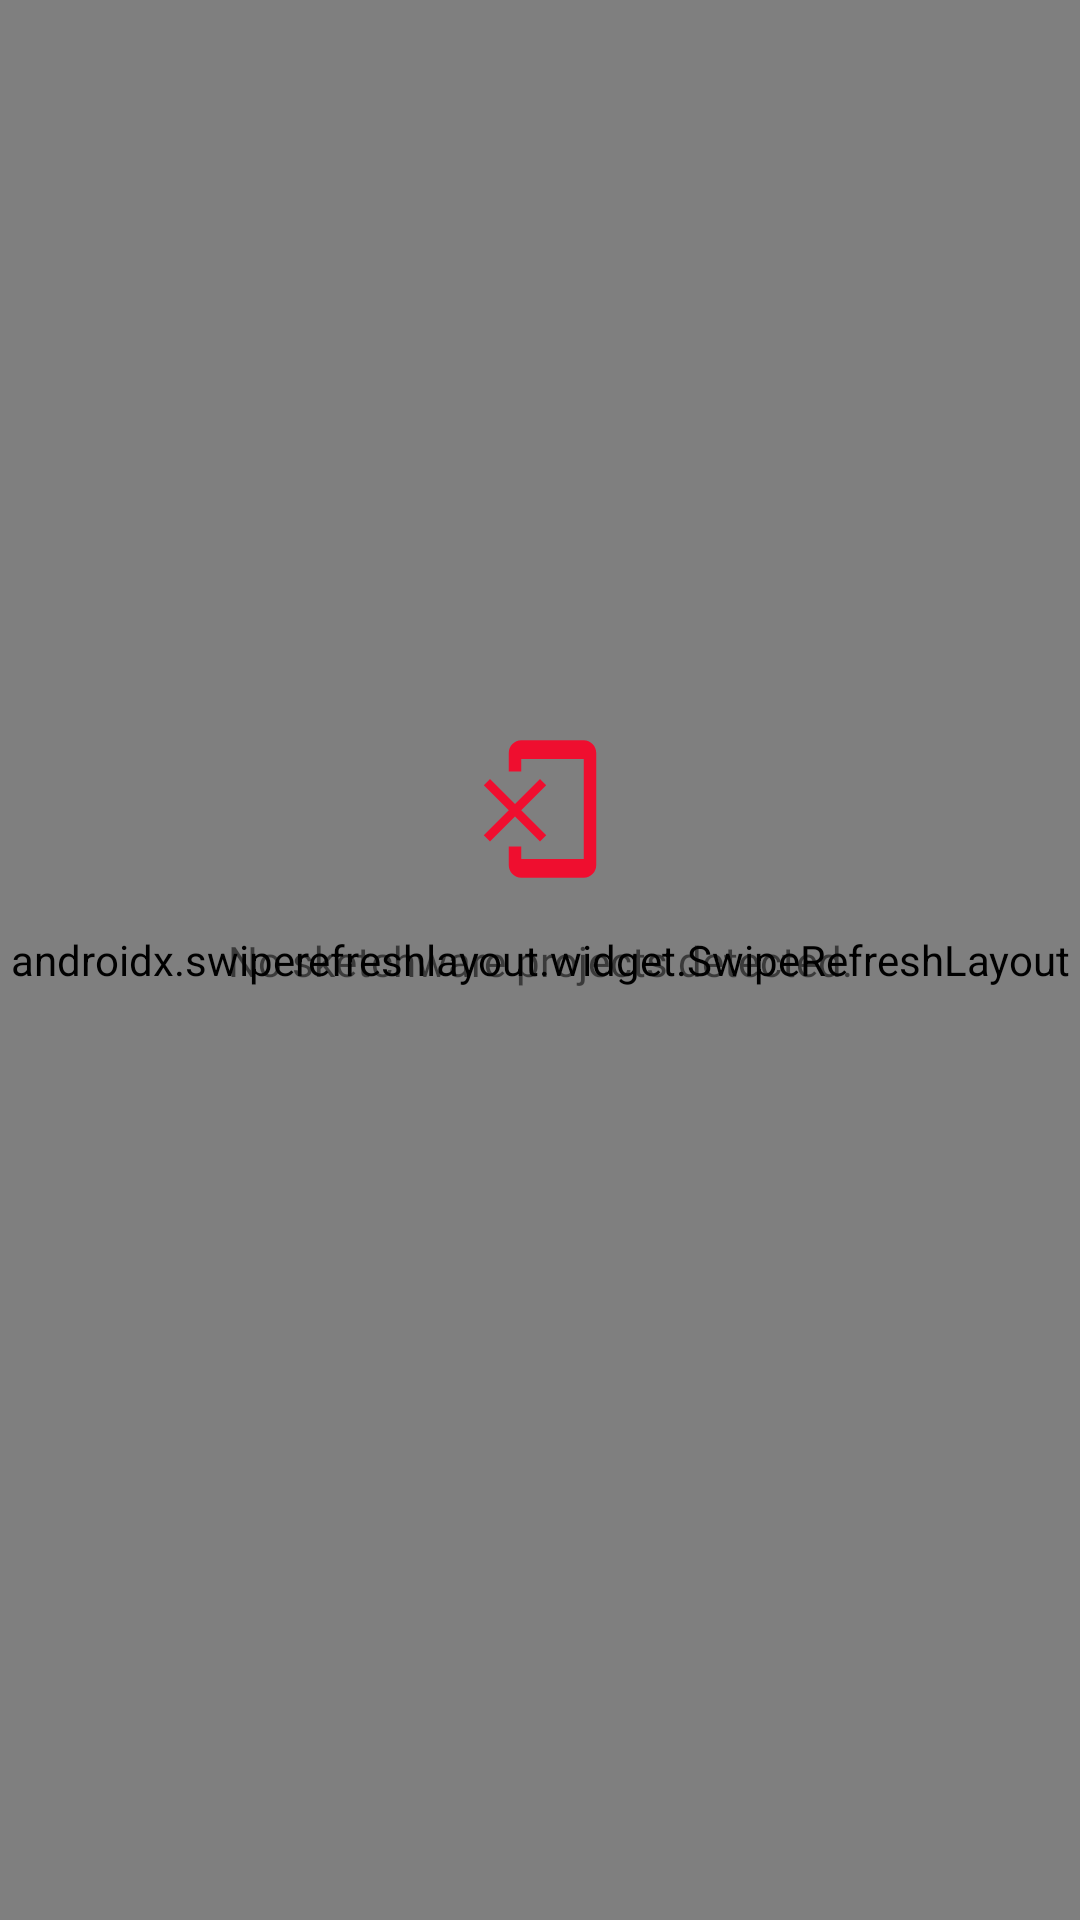

Icons on this 1080 × 1920 Android screen, each with its box as bbox=(x1, y1, x2, y2):
phone: bbox=(484, 740, 597, 878)
